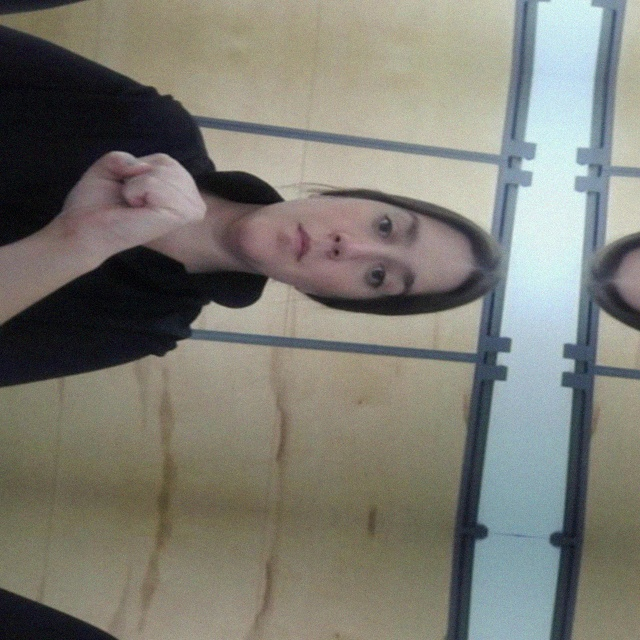Rock: (56, 136, 229, 266)
